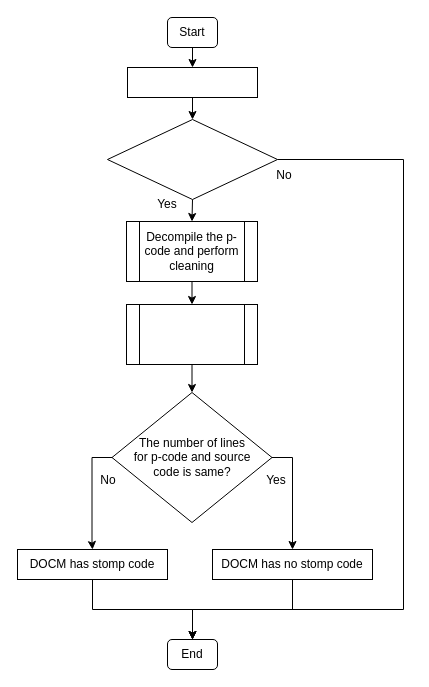
This 429x687 diagram has some shape labels left out. The shapes that lost their labels are listed below. From the top down, each one's box as (x1, y1, x2, y2) in pixels, then its label:
(126, 66, 258, 98): Parse the DOCM file
(106, 118, 278, 200): DOCM contain macros?
(126, 304, 258, 364): Extract the source code and perform cleaning
